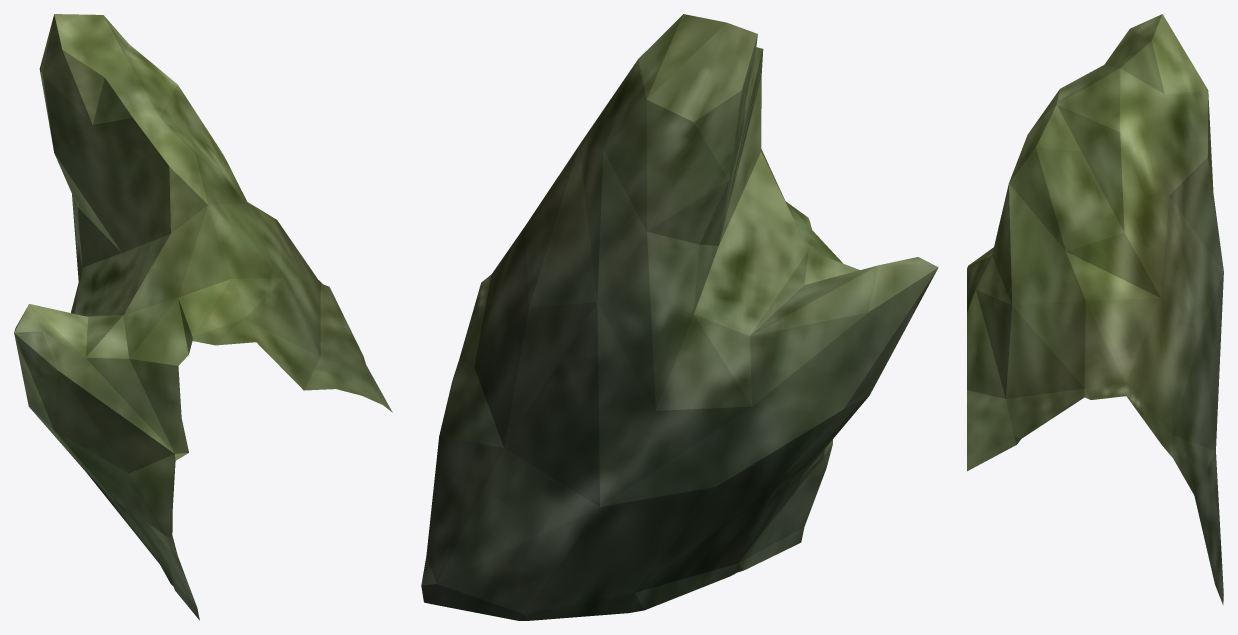
The picture shows the model from 3 angles, left to right: view 1: azimuth 30°, elevation 25°; view 2: azimuth 150°, elevation 25°; view 3: azimuth 270°, elevation 25°; orthographic projection. The views are drawn at different scales.
Size of the model in its own units: 1.51 by 2.25 by 1.04.
1 material, 1 textured.
